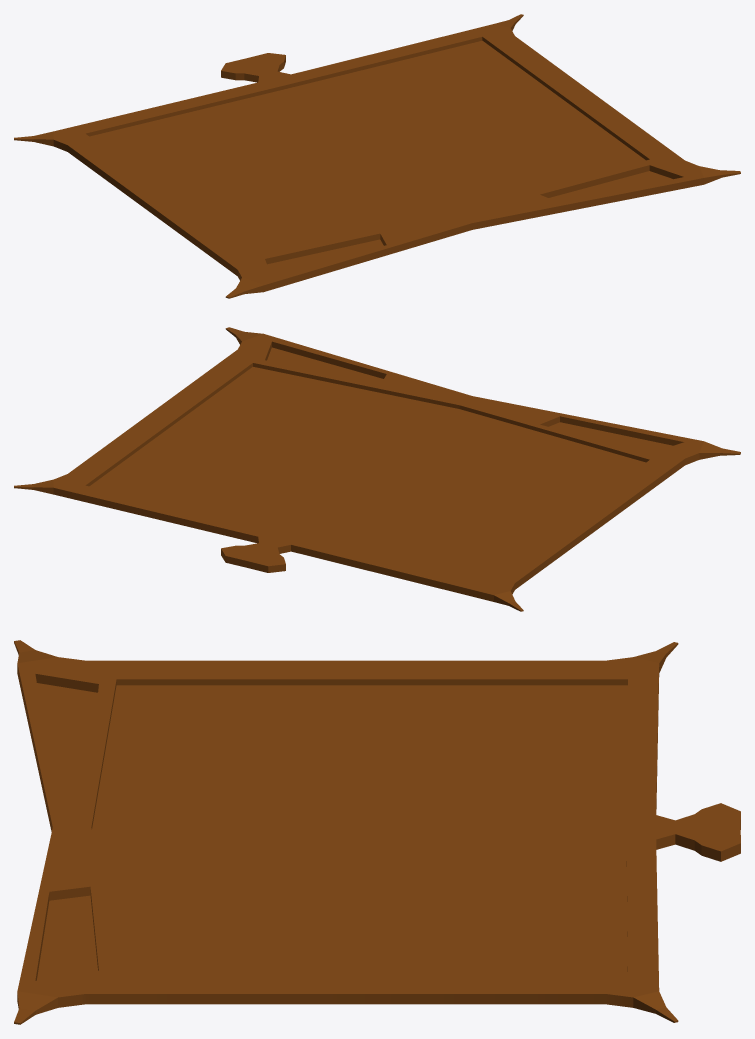
The model's file is ComboBoard.FBX.
3 views of the same model, one above another, from view 1: azimuth 30°, elevation 25°; view 2: azimuth 150°, elevation 25°; view 3: azimuth 270°, elevation 25° (orthographic). The views are drawn at different scales.
Visible parts, largest first — view 1: ComboBoard; view 2: ComboBoard; view 3: ComboBoard.
Part boxes in pixels (x1,y1,x2,y2): ComboBoard: [14, 14, 740, 298]; ComboBoard: [14, 327, 740, 611]; ComboBoard: [14, 640, 740, 1024].
Bounding box in the file's own units: 7878 × 100 × 6318.
